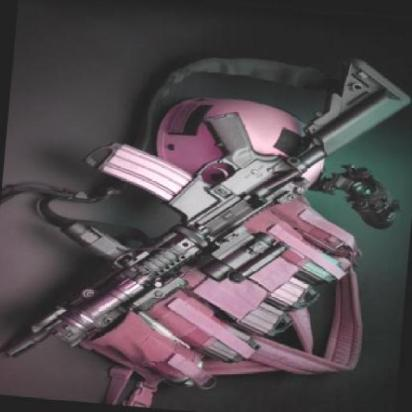Gun: (0, 27, 412, 398)
